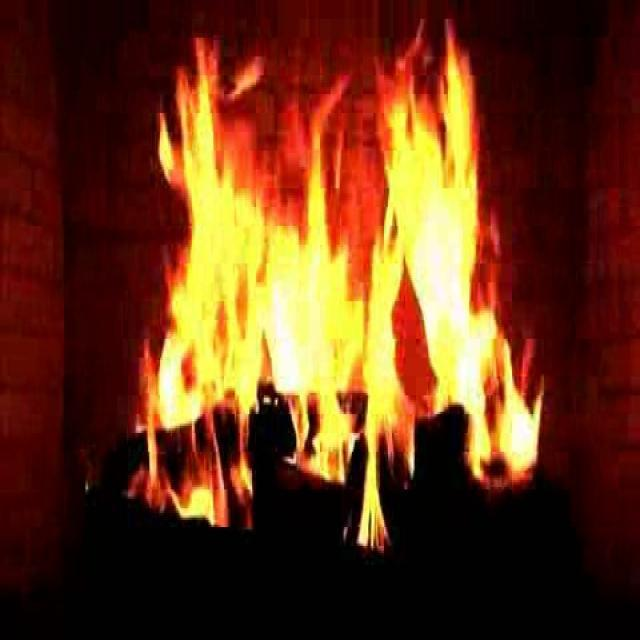Fire: (144, 34, 528, 596)
